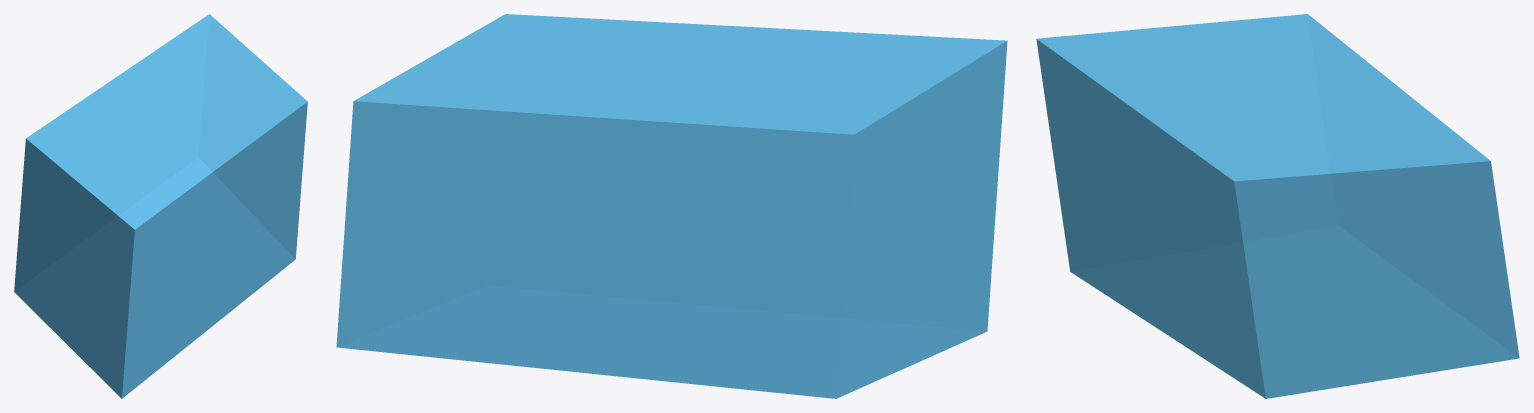
File: Event_421556567_HErechit_0.fbx
3 views of the same model, side by side, from view 1: azimuth 30°, elevation 25°; view 2: azimuth 150°, elevation 25°; view 3: azimuth 270°, elevation 25° (orthographic). The views are drawn at different scales.
Visible parts, largest first — view 1: Model; view 2: Model; view 3: Model.
Part boxes in pixels (x1=…): Model: x1=14, y1=14, x2=307, y2=398; Model: x1=336, y1=14, x2=1007, y2=398; Model: x1=1036, y1=14, x2=1519, y2=398.
Size of the model in its own units: 0.76 by 0.5901 by 0.9604.
